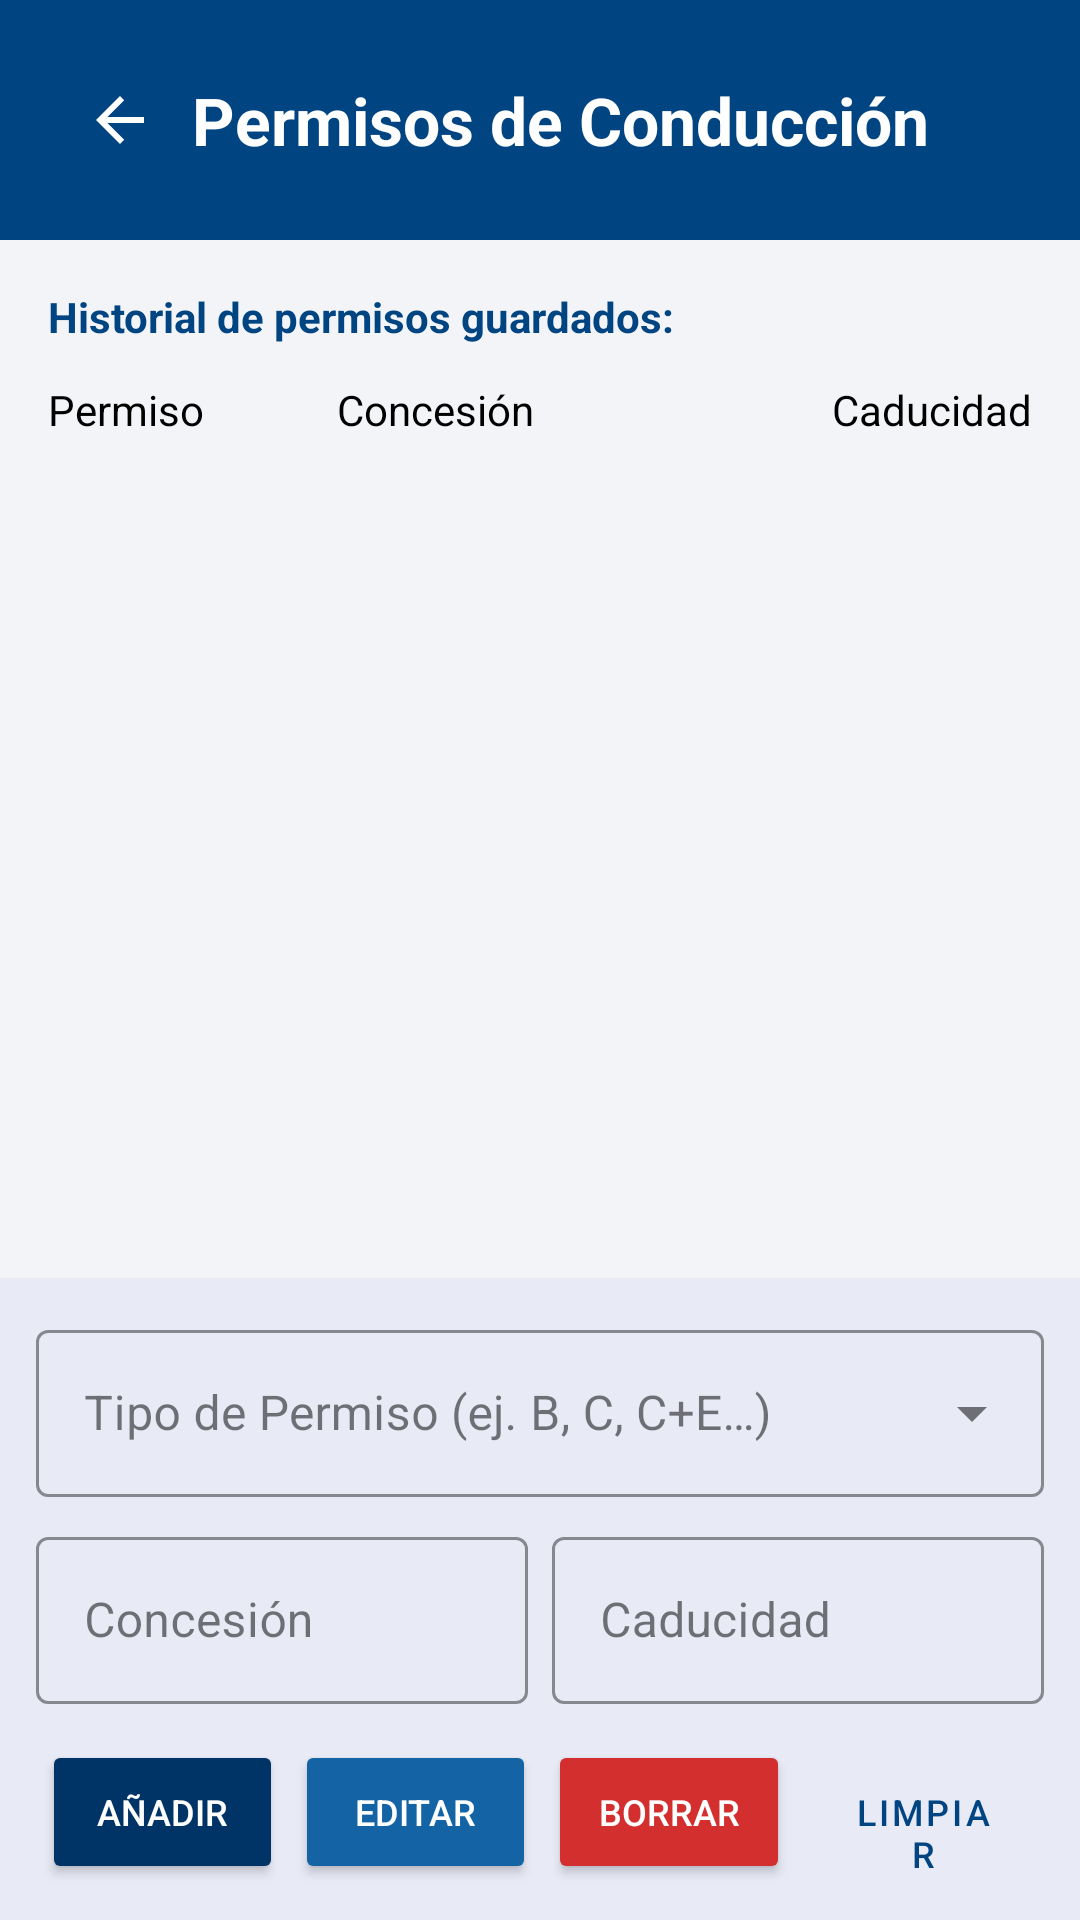

Icon bounding boxes for this 1080 x 1920 phone screenshot, format bbox=[x1, y1, x2, y2]:
Volver: bbox=[96, 96, 144, 144]
